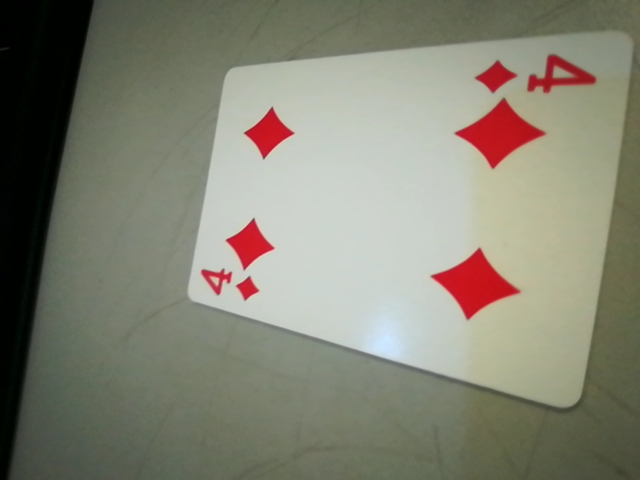fk 4: (465, 53, 606, 102)
